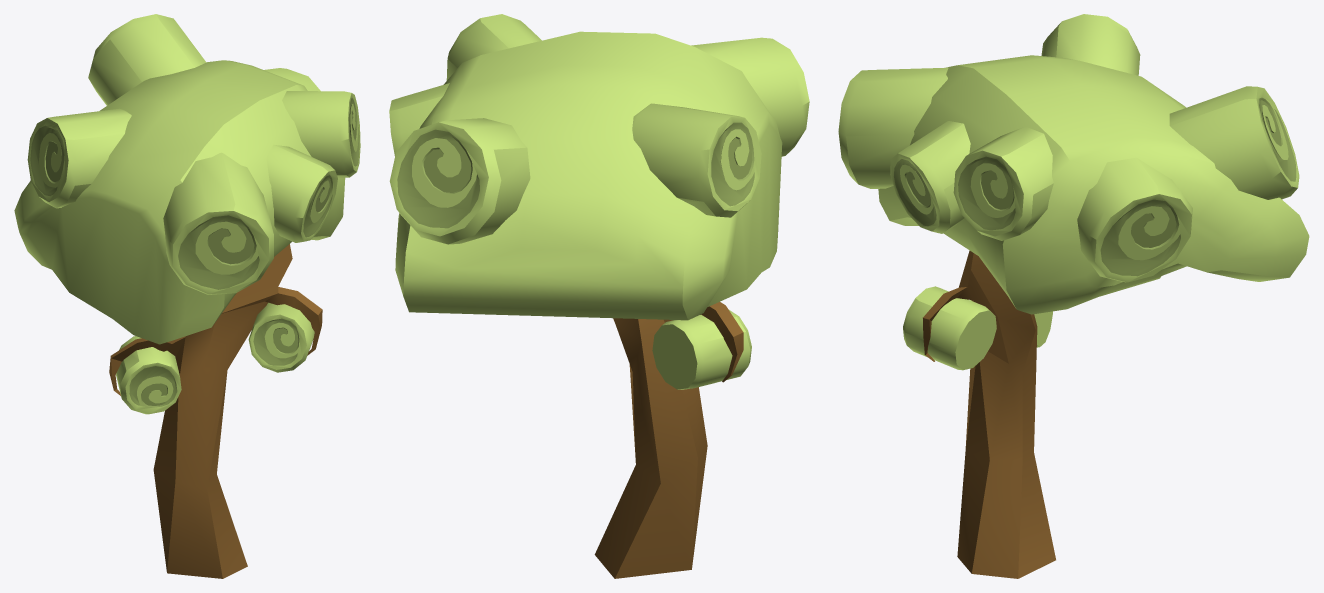
Rendered from tree_spiral.fbx.
3 renders of one model, left to right at view 1: azimuth 30°, elevation 25°; view 2: azimuth 150°, elevation 25°; view 3: azimuth 270°, elevation 25°, orthographic. The views are drawn at different scales.
Visible parts, largest first — view 1: tree_spiral; view 2: tree_spiral; view 3: tree_spiral.
Boxes of the visible parts, bbox=[...] form: tree_spiral: bbox=[14, 14, 360, 578]; tree_spiral: bbox=[389, 14, 809, 578]; tree_spiral: bbox=[838, 14, 1309, 578].
Bounding box in the file's own units: 397 × 579 × 499.
